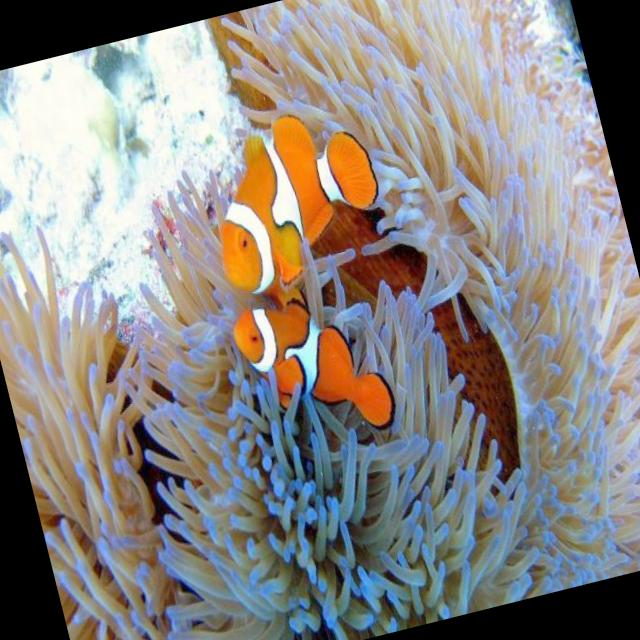ClownFish: (196, 102, 394, 297), (231, 277, 398, 454)
